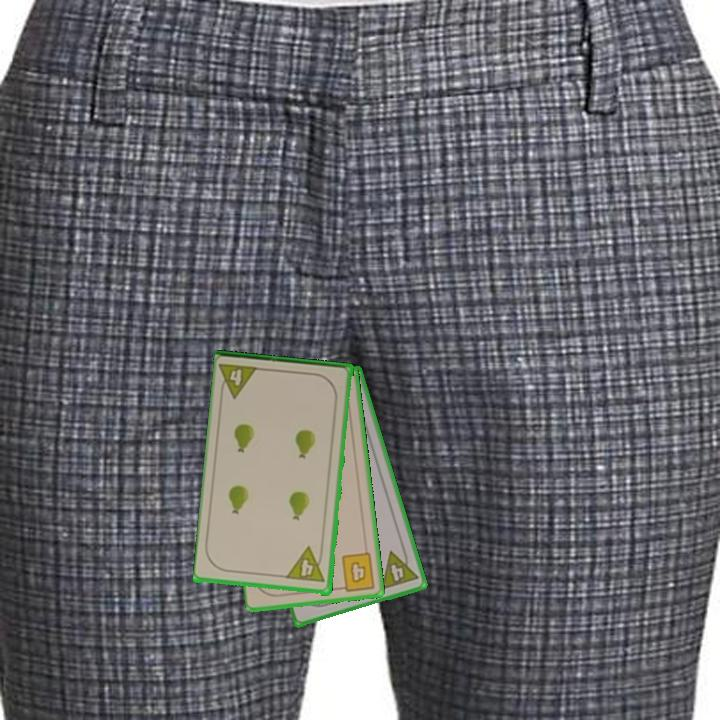4b: (334, 549, 378, 594)
4p: (377, 544, 421, 592), (216, 360, 262, 402), (284, 544, 328, 586)
